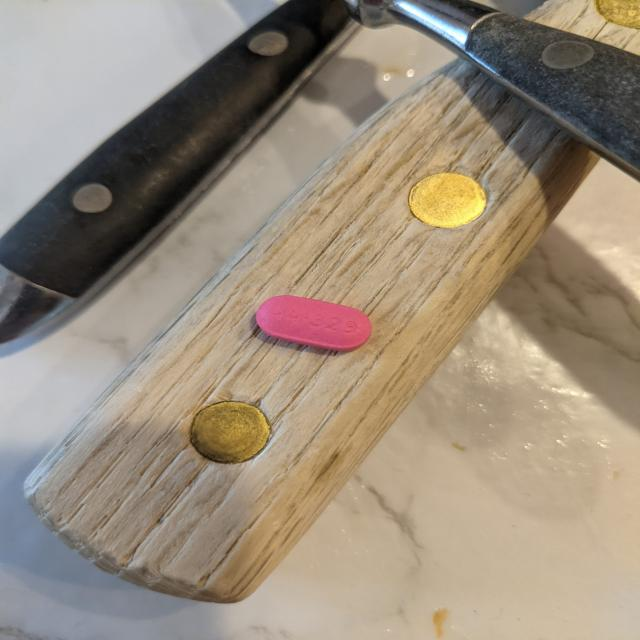non-organic waste: (254, 294, 373, 353)
